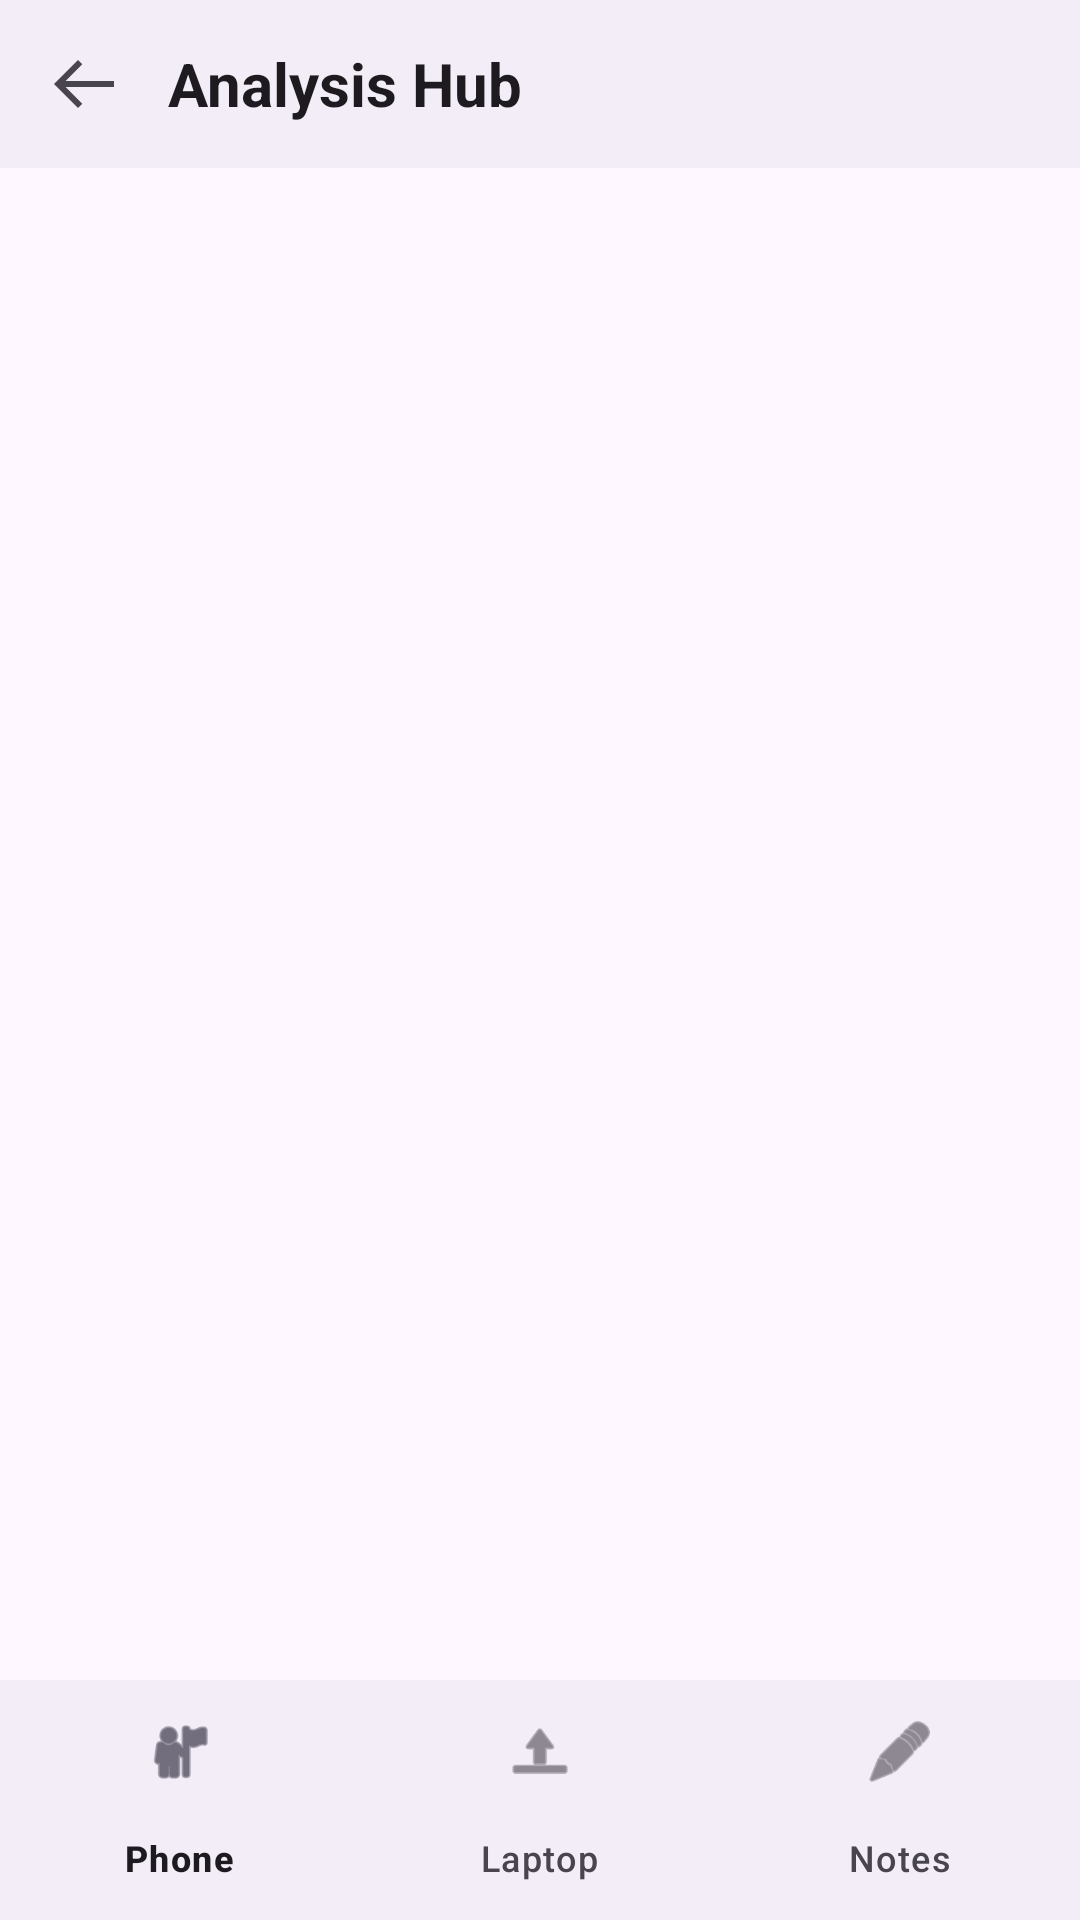

Locate icon controls on the screen. Image size 1080 × 1920, boxes as (x1, y1, x2, y2).
Back: (54, 60, 114, 108)
